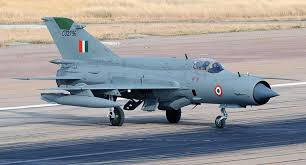fighter: (12, 15, 282, 130)
